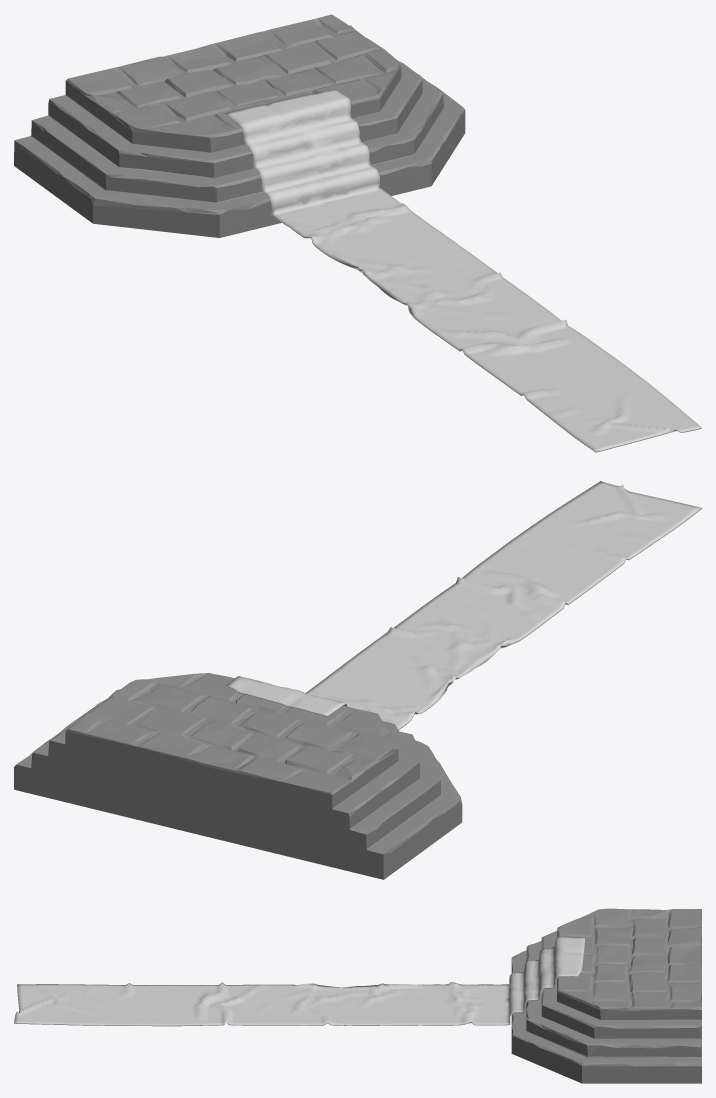
File: throne_base.FBX
3 renders of one model, top to bottom at view 1: azimuth 30°, elevation 25°; view 2: azimuth 150°, elevation 25°; view 3: azimuth 270°, elevation 25°, orthographic. The views are drawn at different scales.
Visible parts, largest first — view 1: throne_base; view 2: throne_base; view 3: throne_base.
Part boxes in pixels (left/top/right/bottom): throne_base: left=14, top=14, right=701, bottom=452; throne_base: left=14, top=481, right=701, bottom=879; throne_base: left=14, top=908, right=701, bottom=1083.
Size of the model in its own units: 7.2 by 1.44 by 15.18.
